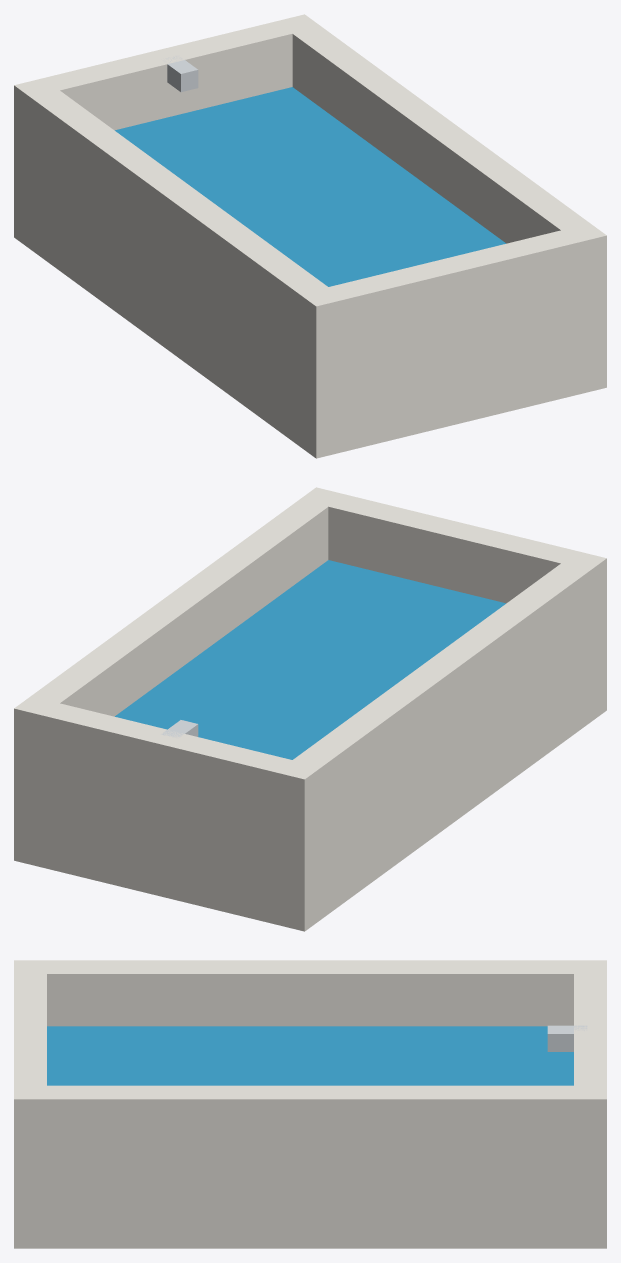
File: PRP_Bathtub.fbx
The picture shows the model from 3 angles, top to bottom: view 1: azimuth 30°, elevation 25°; view 2: azimuth 150°, elevation 25°; view 3: azimuth 270°, elevation 25°; orthographic projection.
Parts seen in each view (by area): view 1: PRP_Bathtub; view 2: PRP_Bathtub; view 3: PRP_Bathtub.
Boxes of the visible parts, x1,y1,x2,y2 form: PRP_Bathtub: [14, 14, 606, 458]; PRP_Bathtub: [14, 487, 606, 931]; PRP_Bathtub: [14, 960, 606, 1248].
Bounding box in the file's own units: 5 × 2.5 × 9.
